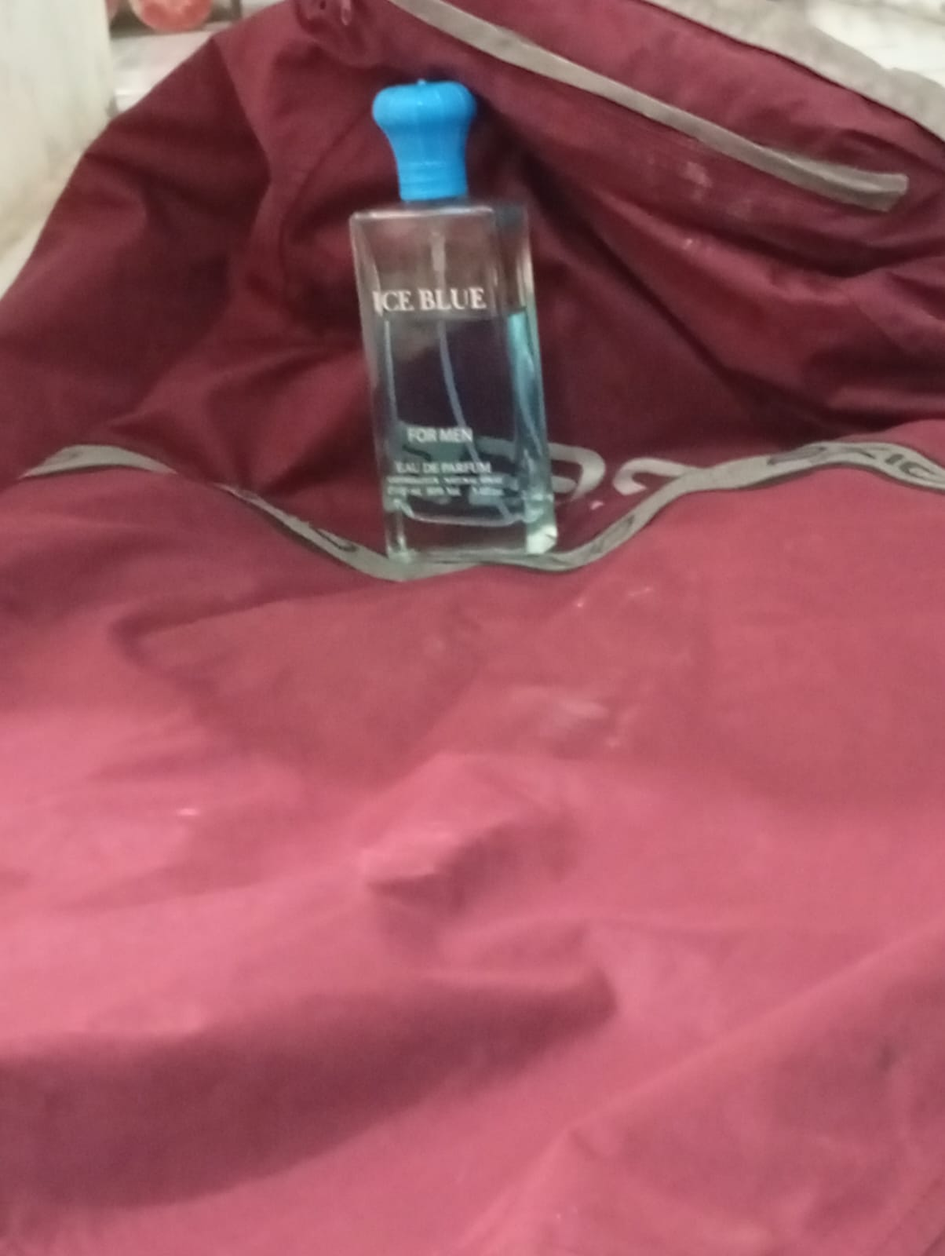Parfum: (296, 73, 624, 627)
